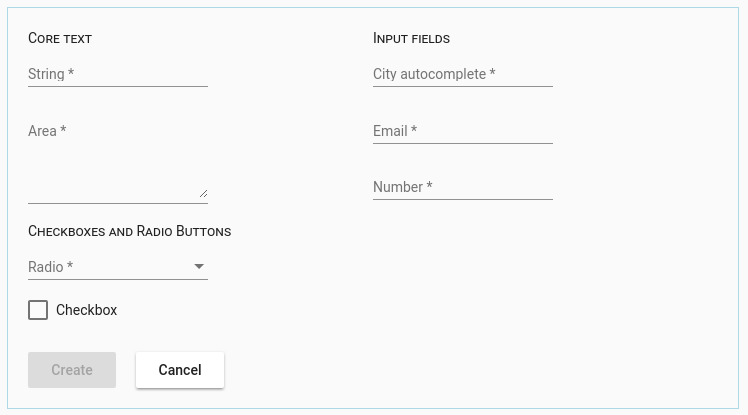_form_: (274, 1, 618, 403), (1, 1, 344, 403)
button: (130, 349, 228, 392), (26, 350, 120, 392)
checkbox: (25, 297, 52, 324)
checkbox_with_label: (22, 295, 117, 326)
field: (27, 123, 209, 206), (368, 57, 553, 91), (25, 58, 209, 90), (368, 119, 556, 148), (368, 173, 556, 202)
select: (23, 252, 211, 284)
